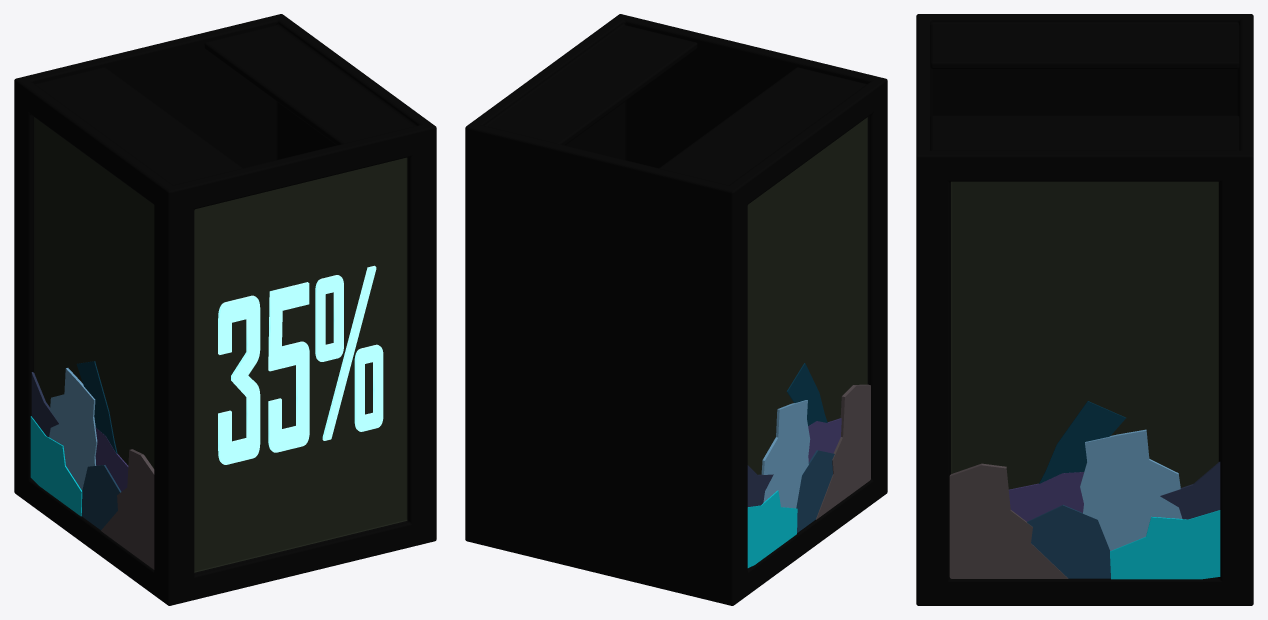
Rendered from mplleimer_bildschirm.fbx.
3 views of the same model, side by side, from view 1: azimuth 30°, elevation 25°; view 2: azimuth 150°, elevation 25°; view 3: azimuth 270°, elevation 25° (orthographic). The views are drawn at different scales.
Parts seen in each view (by area): view 1: body, zahl, Plane.004, Plane, Plane.003, Plane.005, Plane.001, Plane.002, Plane.006; view 2: body, Plane.004, Plane, Plane.003, Plane.005, Plane.001, Plane.002, Plane.006; view 3: body, Plane.004, Plane, Plane.003, Plane.005, Plane.001, Plane.002, Plane.006.
Boxes of the visible parts, left/top/right/bottom form: body: left=14, top=14, right=436, bottom=605; zahl: left=218, top=265, right=383, bottom=464; Plane.004: left=101, top=449, right=154, bottom=569; Plane: left=49, top=368, right=97, bottom=490; Plane.003: left=30, top=416, right=82, bottom=516; Plane.005: left=81, top=465, right=121, bottom=529; Plane.001: left=76, top=361, right=117, bottom=453; Plane.002: left=95, top=428, right=128, bottom=491; Plane.006: left=31, top=372, right=59, bottom=437; body: left=465, top=14, right=887, bottom=605; Plane.004: left=816, top=384, right=870, bottom=519; Plane: left=761, top=400, right=810, bottom=508; Plane.003: left=747, top=490, right=797, bottom=567; Plane.005: left=796, top=450, right=834, bottom=532; Plane.001: left=787, top=363, right=827, bottom=425; Plane.002: left=808, top=418, right=841, bottom=462; Plane.006: left=747, top=465, right=773, bottom=506; body: left=916, top=14, right=1253, bottom=605; Plane.004: left=949, top=463, right=1068, bottom=578; Plane: left=1080, top=429, right=1182, bottom=550; Plane.003: left=1110, top=510, right=1220, bottom=579; Plane.005: left=1027, top=505, right=1110, bottom=578; Plane.001: left=1039, top=401, right=1125, bottom=483; Plane.002: left=1008, top=472, right=1083, bottom=521; Plane.006: left=1160, top=461, right=1220, bottom=519.
Bounding box in the file's own units: 42 × 62 × 42.
